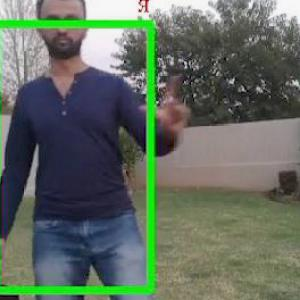land_hand: (139, 67, 191, 132)
